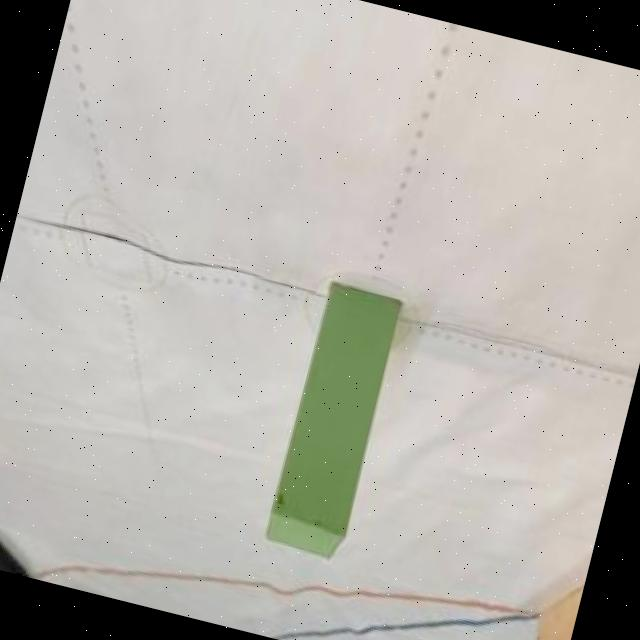greenbox: (262, 277, 405, 558)
